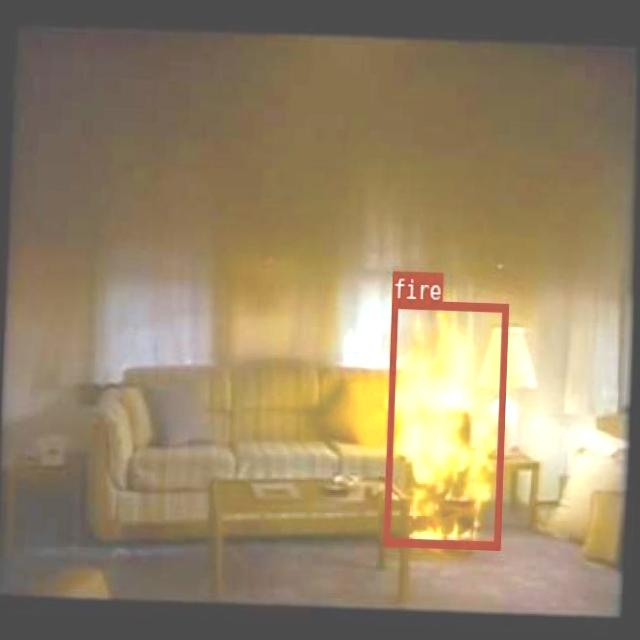fire: (382, 298, 508, 548)
